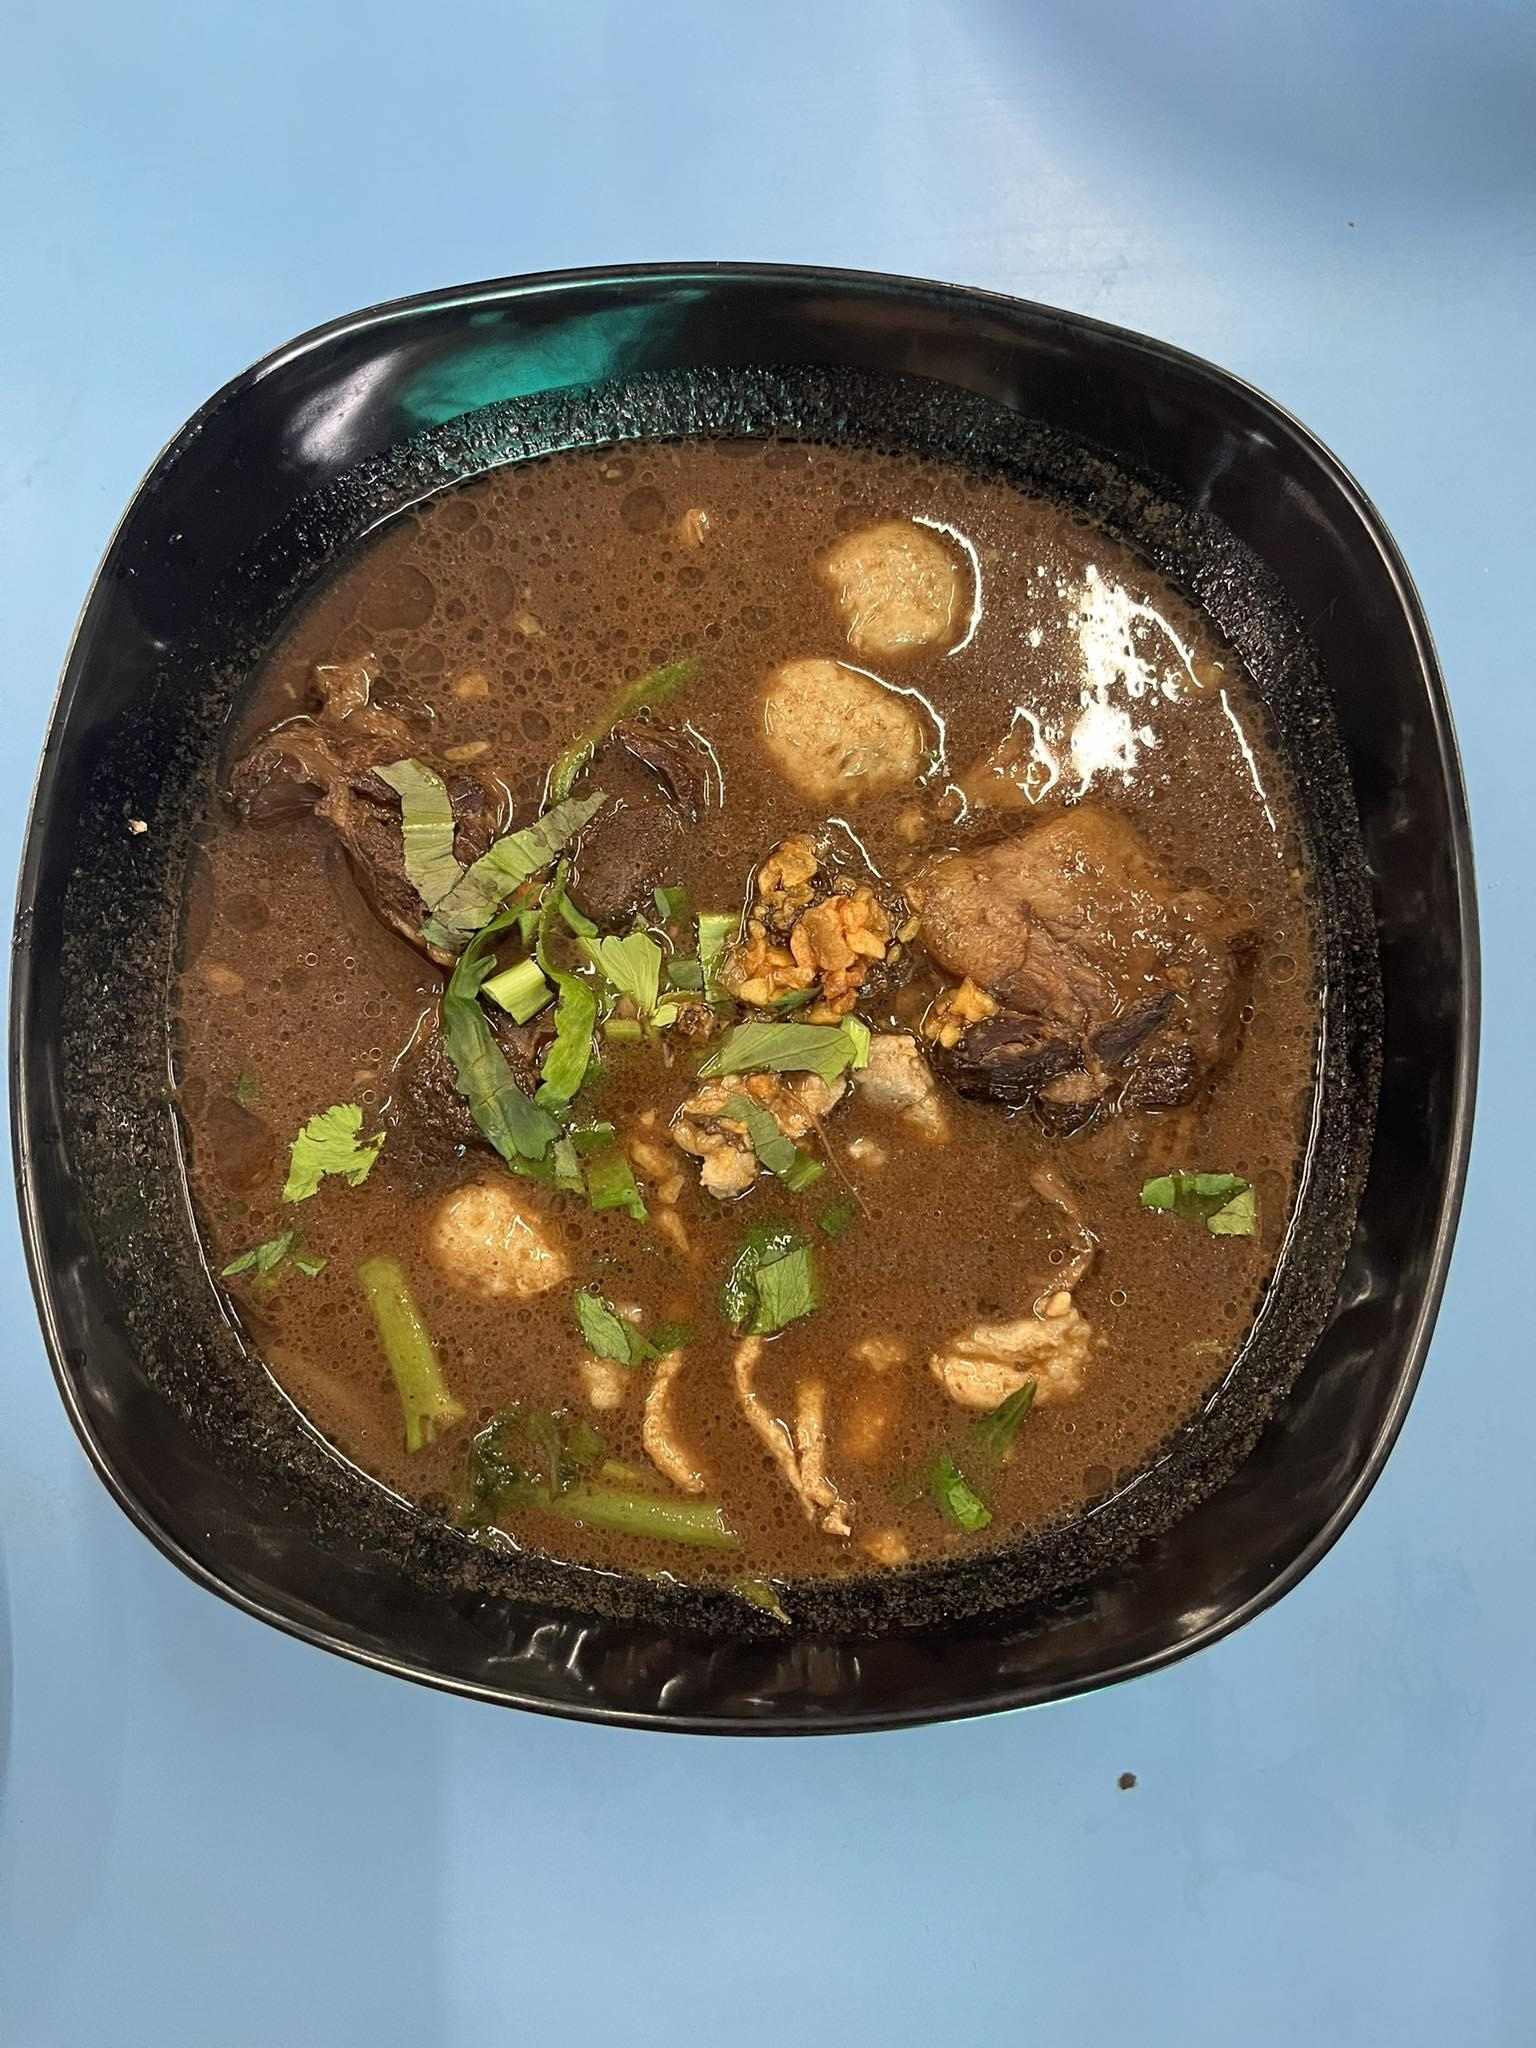meat: (921, 832, 1255, 1121), (768, 645, 923, 800), (739, 1342, 852, 1535), (274, 664, 382, 866), (602, 721, 710, 913), (847, 534, 973, 645), (436, 1187, 558, 1293), (942, 1321, 1091, 1408), (408, 1040, 486, 1163), (655, 1358, 703, 1505)
vegetable: (405, 874, 770, 1074), (486, 1068, 652, 1218), (363, 1256, 461, 1448), (269, 1095, 387, 1195), (561, 1485, 737, 1551), (713, 1232, 823, 1332), (1157, 1174, 1270, 1245), (762, 1014, 868, 1079)
